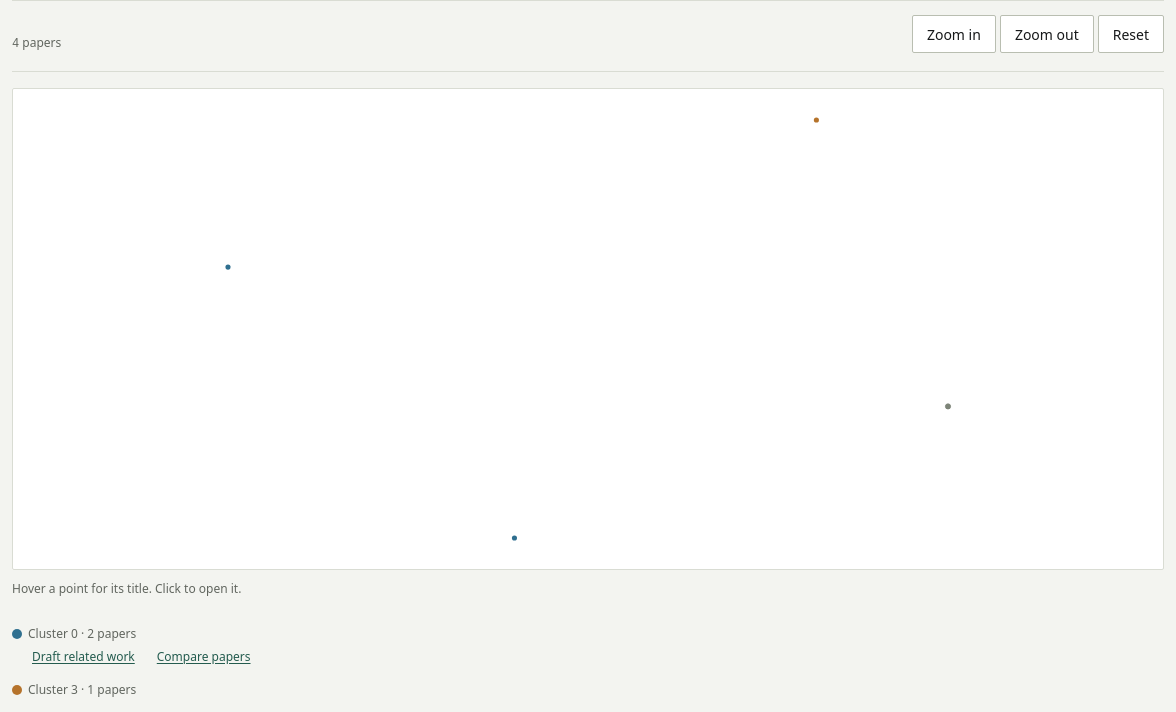
it: map view › drafts related work for a cluster and surfaces the draft’s warnings
Click the button with aria-label "Draft related work for Cluster 0". click: (83, 657)
box: top-left (28, 647), bottom-right (139, 668)
(page scrolled)
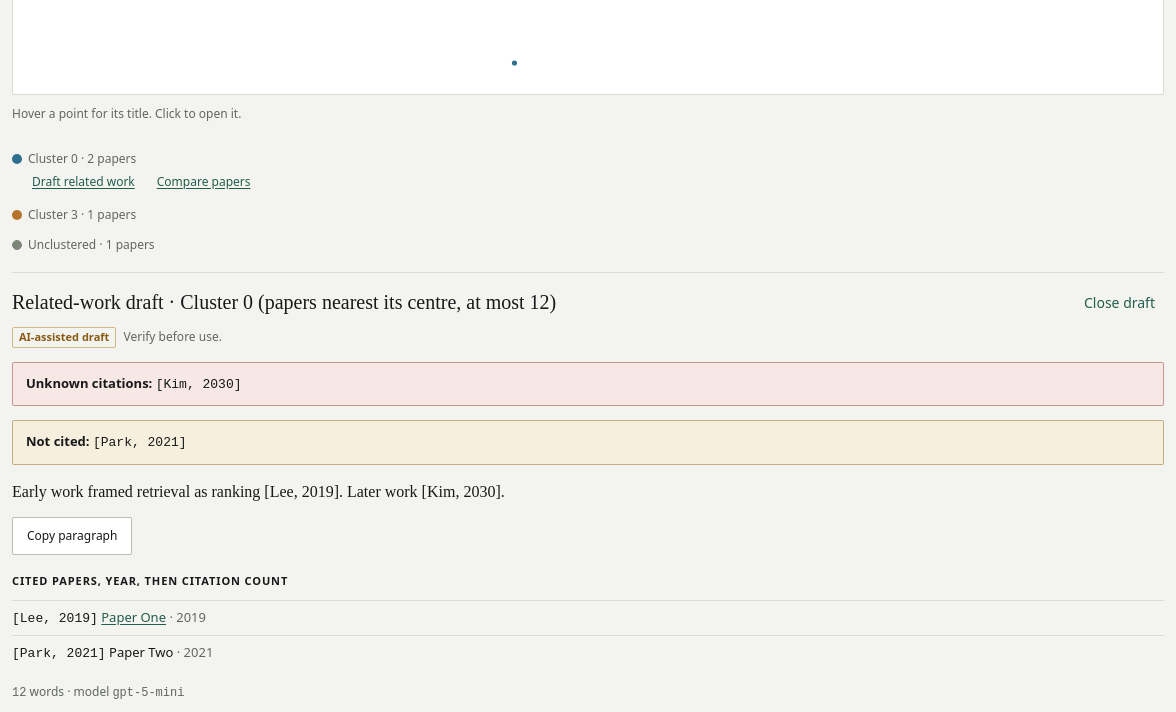
expect the text "AI-assisted draft Verify before use." is shown: met, box top-left (12, 327), bottom-right (222, 348)
expect the text "Unknown citations:" is shown: met, box top-left (26, 374), bottom-right (152, 392)
expect the text "[Kim, 2030]" is shown: met, box top-left (156, 377), bottom-right (242, 392)
